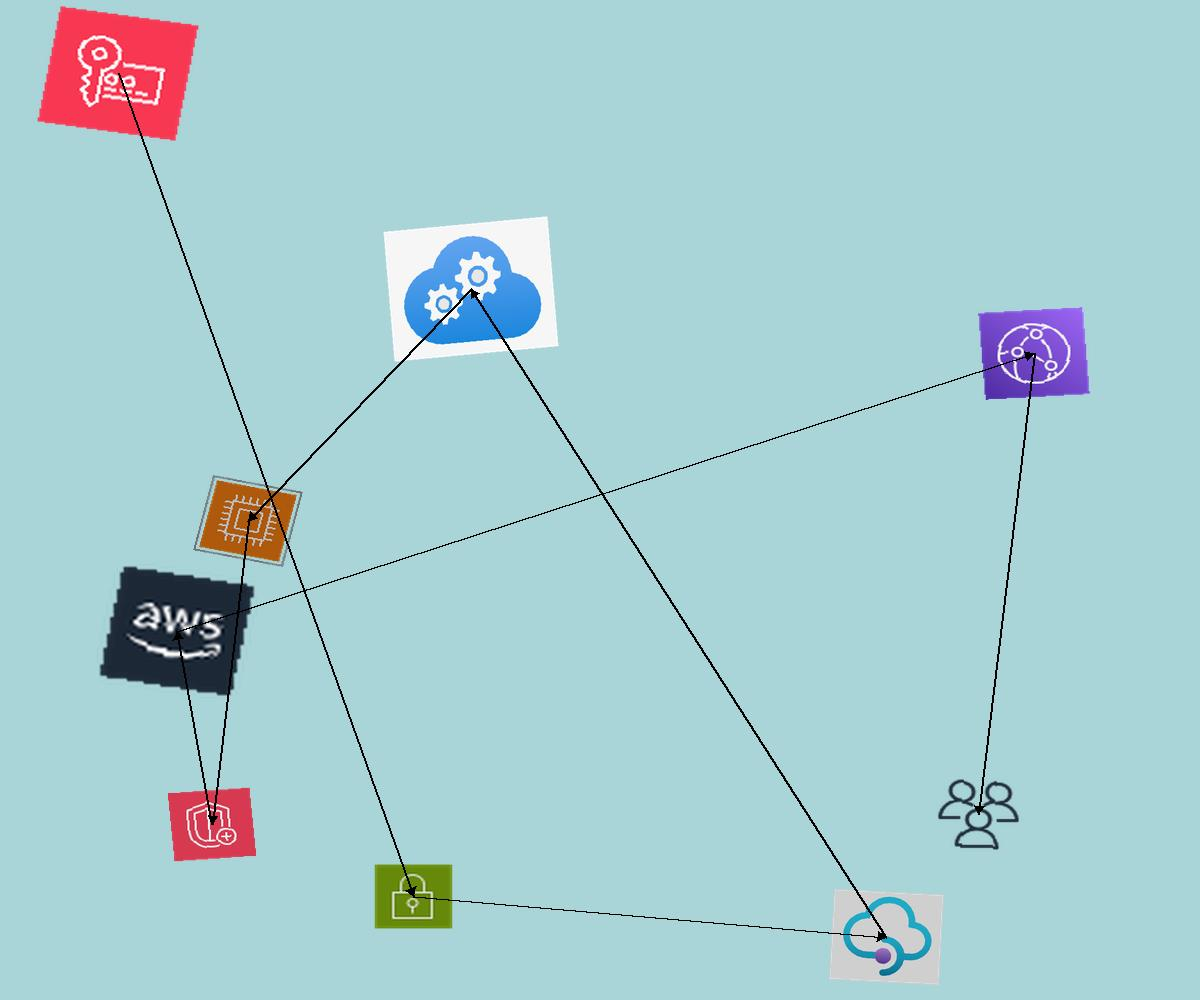AWS-Category_Compute: (193, 475, 303, 567)
AWS-Cloud-logo: (97, 564, 257, 698)
AWS-CloudFront: (978, 307, 1090, 400)
AWS-Key-Management-Service: (36, 5, 200, 142)
AWS-Public-subnet: (373, 863, 454, 930)
AWS-Res_Users: (931, 775, 1026, 854)
AWS-Shield: (167, 787, 257, 862)
Azure_api_gateway: (829, 889, 944, 985)
Azure_cloud_services: (383, 216, 559, 362)
